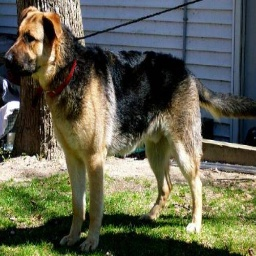dog: (3, 7, 220, 247)
